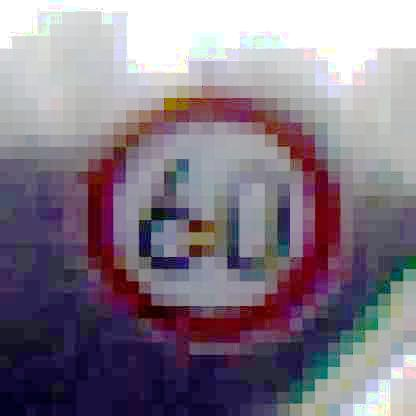Speed Limit -60-: (70, 80, 345, 348)
